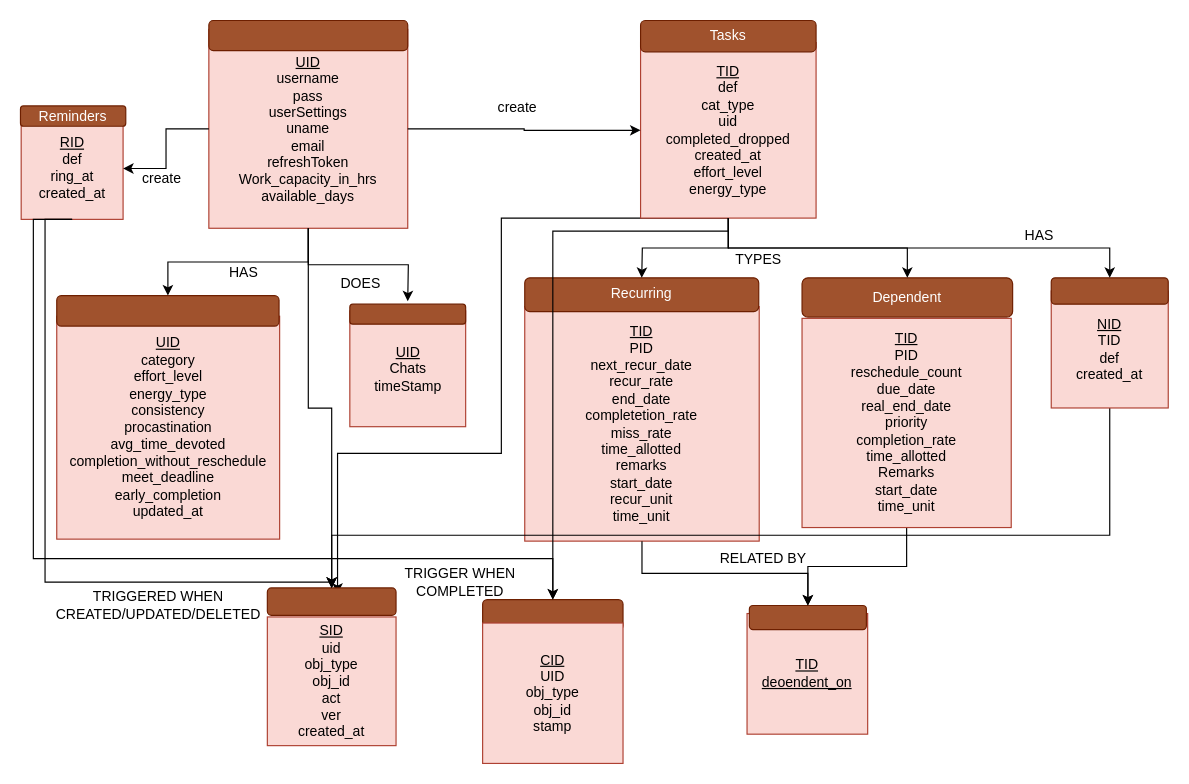
This 1189x784 diagram has some shape labels left out. The box of each missing label's shape, as (x1, y1, x2, y2) in pixels:
Chat_with_AI: (349, 303, 466, 324)
Checkbox: (481, 598, 623, 630)
Dependency: (748, 604, 866, 630)
Notes: (1050, 277, 1168, 304)
Sync_changes: (266, 587, 396, 615)
User: (208, 19, 408, 51)
User_qualities: (56, 294, 279, 326)
